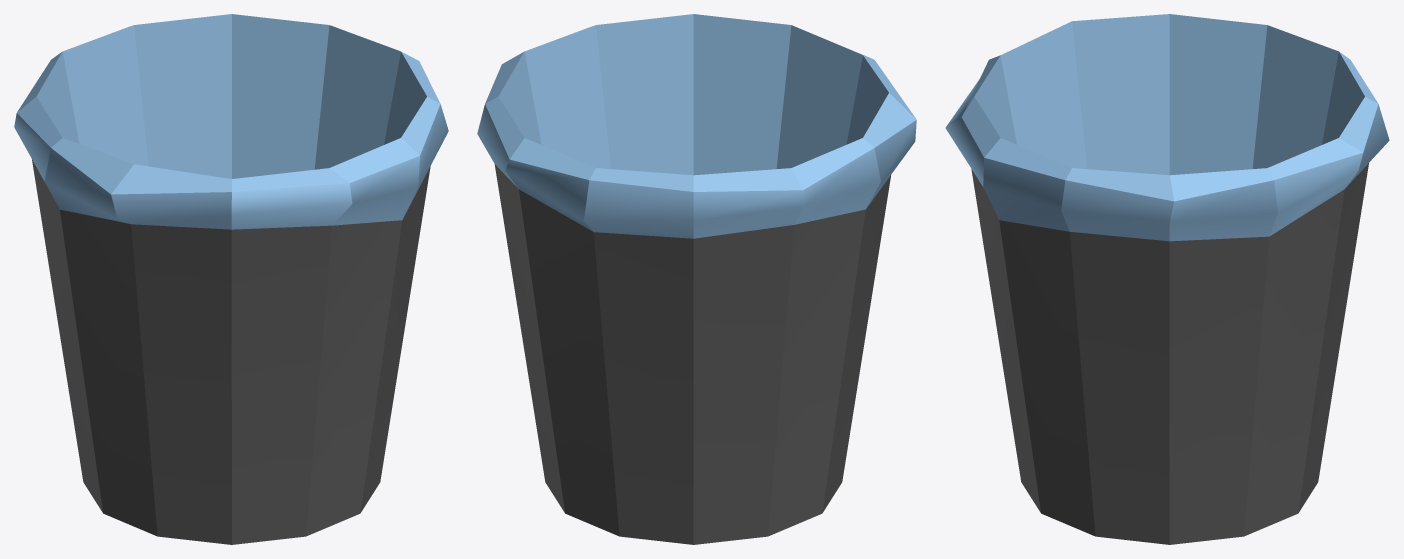
Rendered from Bin_01.fbx.
The picture shows the model from 3 angles, left to right: view 1: azimuth 30°, elevation 25°; view 2: azimuth 150°, elevation 25°; view 3: azimuth 270°, elevation 25°; orthographic projection.
Parts seen in each view (by area): view 1: SM_Prop_Bin_01; view 2: SM_Prop_Bin_01; view 3: SM_Prop_Bin_01.
Part boxes in pixels (bbox=[...]): SM_Prop_Bin_01: bbox=[14, 14, 448, 544]; SM_Prop_Bin_01: bbox=[477, 14, 916, 544]; SM_Prop_Bin_01: bbox=[945, 14, 1389, 544].
Bounding box in the file's own units: 0.4507 × 0.445 × 0.46.
